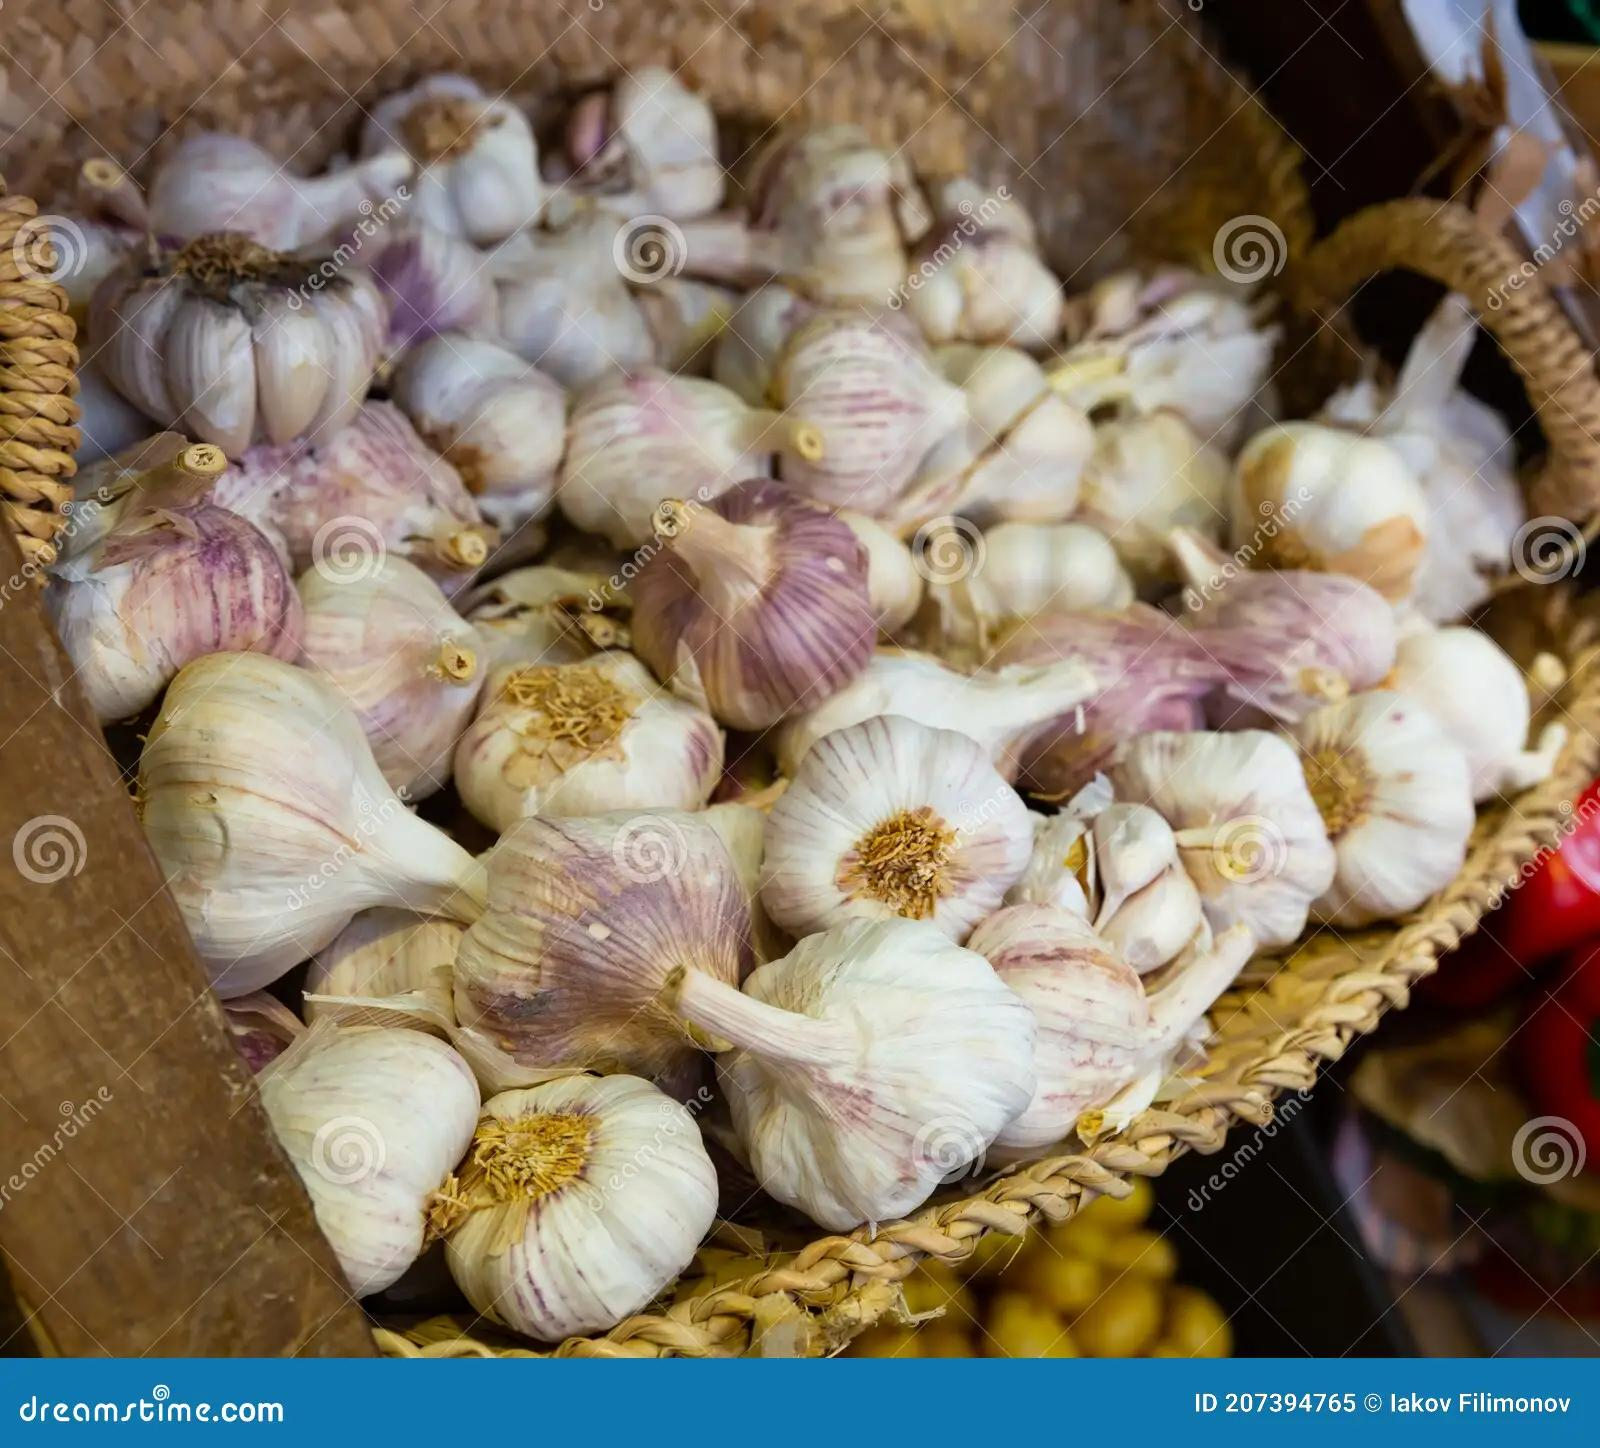garlic: (92, 100, 1482, 1204)
